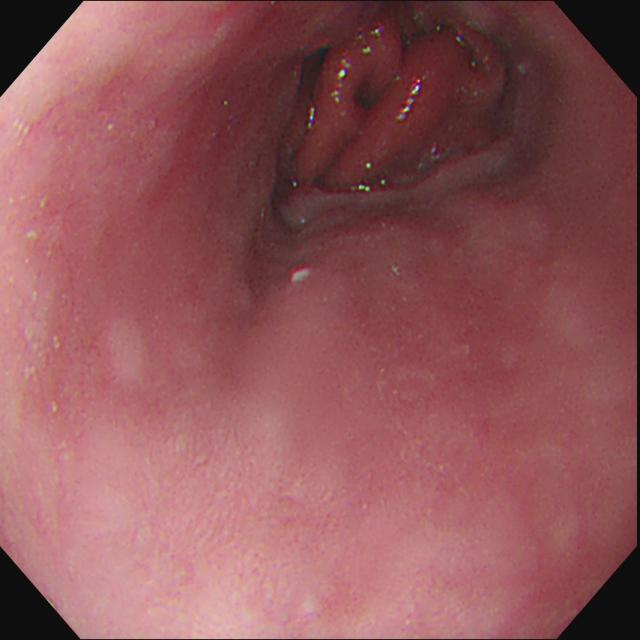I: (288, 3, 511, 212)
U: (398, 75, 424, 120), (339, 50, 353, 81)
